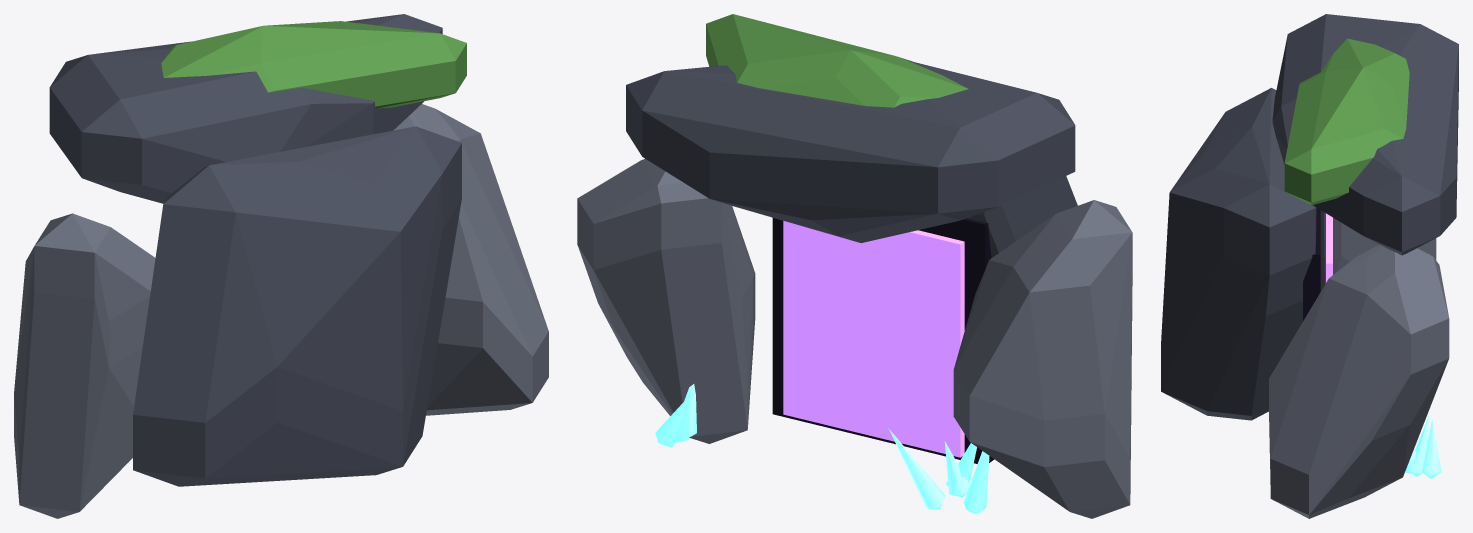
Rendered from cave.glb.
3 renders of one model, left to right at view 1: azimuth 30°, elevation 25°; view 2: azimuth 150°, elevation 25°; view 3: azimuth 270°, elevation 25°, orthographic. The views are drawn at different scales.
Parts seen in each view (by area): view 1: RockDark_4A4F5E, Rock_6E7484, Moss_5E9E4E; view 2: Rock_6E7484, RockDark_4A4F5E, Portal_9B6BFF, Moss_5E9E4E, Inside_120E22, Crystal_7FE8FF; view 3: RockDark_4A4F5E, Rock_6E7484, Moss_5E9E4E, Crystal_7FE8FF, Inside_120E22, Portal_9B6BFF.
Boxes of the visible parts, x1,y1,x2,y2 form: RockDark_4A4F5E: (49,14,461,486); Rock_6E7484: (14,104,548,518); Moss_5E9E4E: (161,21,466,108); Rock_6E7484: (577,159,1132,518); RockDark_4A4F5E: (626,60,1077,257); Portal_9B6BFF: (783,221,964,457); Moss_5E9E4E: (706,14,968,107); Inside_120E22: (772,218,994,463); Crystal_7FE8FF: (655,384,989,513); RockDark_4A4F5E: (1161,14,1458,420); Rock_6E7484: (1269,210,1449,518); Moss_5E9E4E: (1284,38,1409,205); Crystal_7FE8FF: (1405,416,1441,478); Inside_120E22: (1303,208,1320,320); Portal_9B6BFF: (1326,213,1332,282).
Size of the model in its own units: 20.85 by 16.48 by 12.02.
